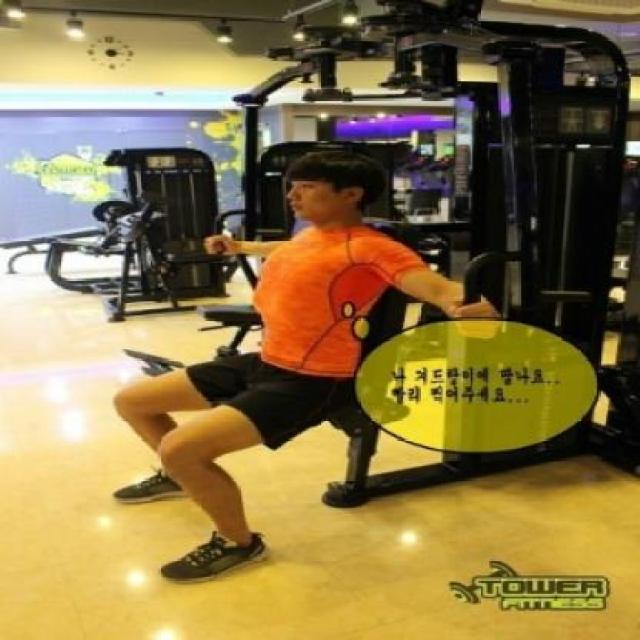chest fly machine: (72, 0, 640, 597)
